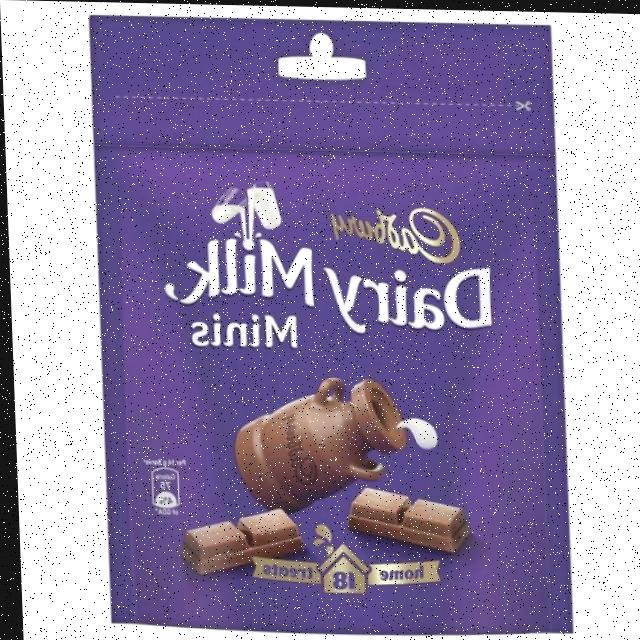cadbury: (84, 12, 573, 633)
